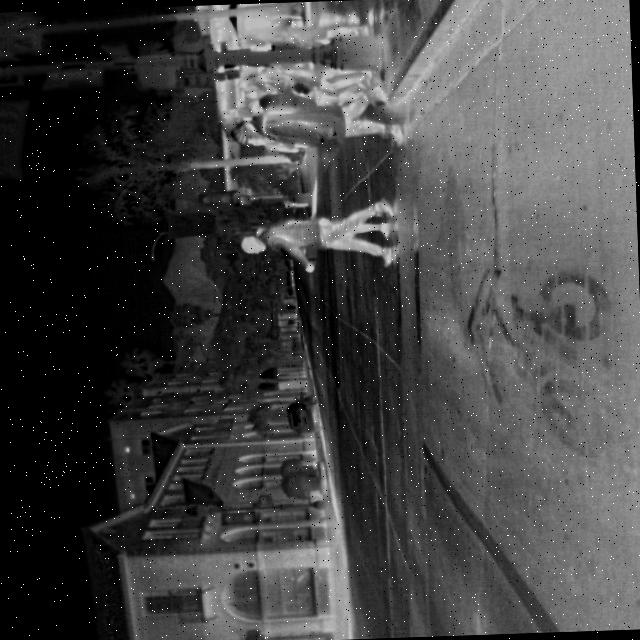Pedestrian: (234, 194, 401, 273), (226, 84, 404, 154), (235, 62, 376, 95), (234, 18, 371, 51)
Vehicle: (284, 394, 322, 434)
